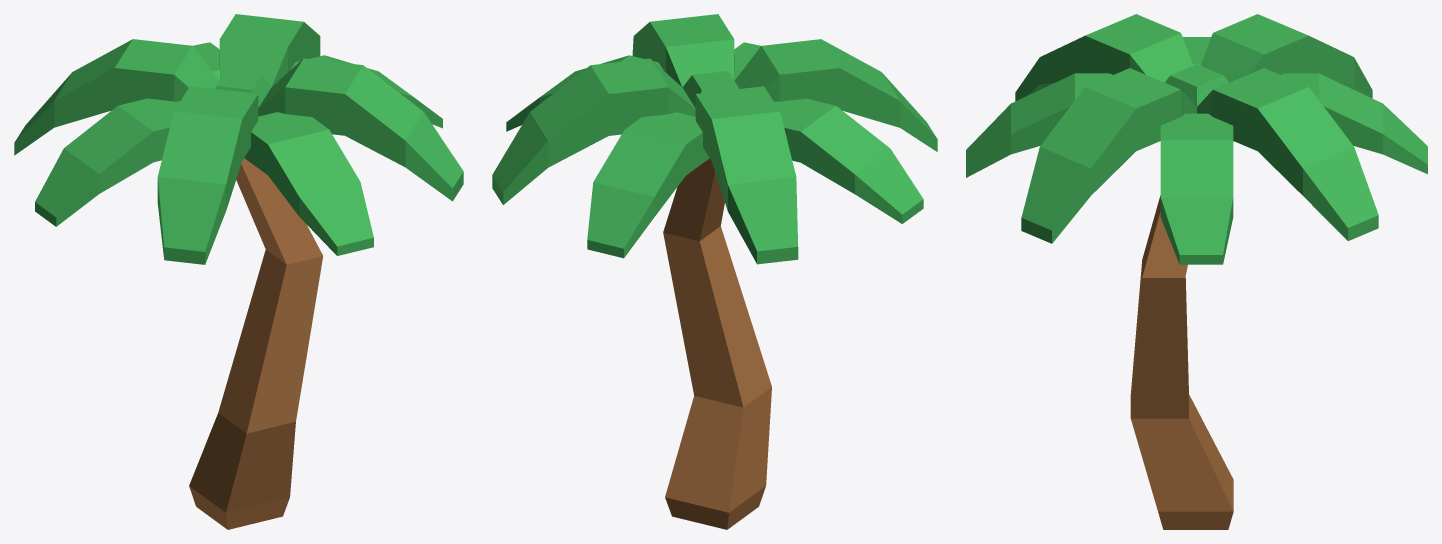
File: palm-short.glb
The picture shows the model from 3 angles, left to right: view 1: azimuth 30°, elevation 25°; view 2: azimuth 150°, elevation 25°; view 3: azimuth 270°, elevation 25°; orthographic projection. The views are drawn at different scales.
Parts seen in each view (by area): view 1: leafs (×2), tree_palmDetailedShort; view 2: leafs (×2), tree_palmDetailedShort; view 3: leafs (×2), tree_palmDetailedShort.
Boxes of the visible parts, left/top/right/bottom form: leafs (×2): left=14, top=14, right=463, bottom=264; tree_palmDetailedShort: left=189, top=158, right=323, bottom=529; leafs (×2): left=492, top=14, right=937, bottom=264; tree_palmDetailedShort: left=663, top=158, right=771, bottom=529; leafs (×2): left=966, top=14, right=1427, bottom=264; tree_palmDetailedShort: left=1130, top=195, right=1233, bottom=529.
Size of the model in its own units: 4.14 by 4.5 by 4.14.
